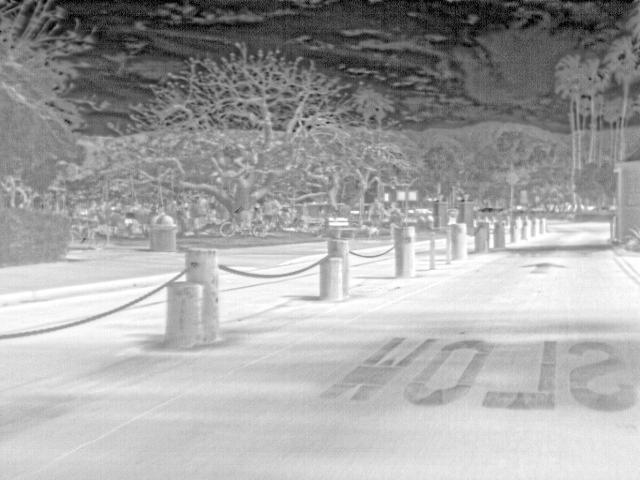dog: (358, 223, 382, 238)
person: (367, 198, 389, 235), (387, 201, 405, 240), (85, 198, 106, 230)
